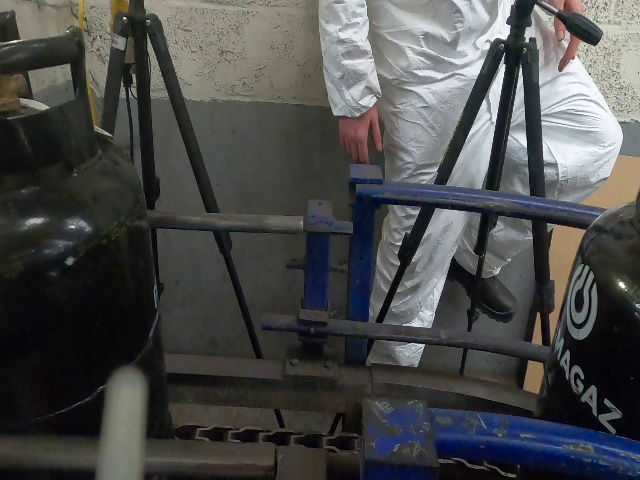gas_bottle: (25, 9, 628, 480)
